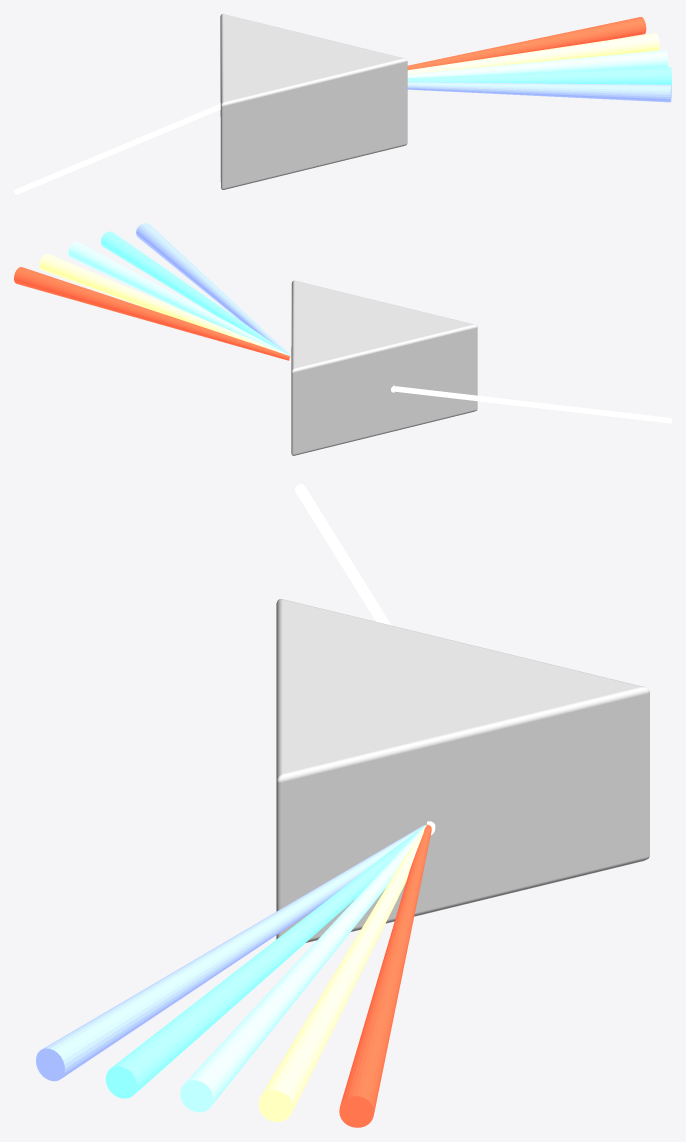
Rendered from prism.glb.
The picture shows the model from 3 angles, top to bottom: view 1: azimuth 30°, elevation 25°; view 2: azimuth 150°, elevation 25°; view 3: azimuth 270°, elevation 25°; orthographic projection. The views are drawn at different scales.
Parts seen in each view (by area): view 1: Prism, Ray4, Ray3, Ray2, Ray1, Ray0, BeamIn; view 2: Prism, Ray0, Ray1, Ray2, Ray3, Ray4, BeamIn; view 3: Prism, Ray4, Ray3, Ray2, Ray1, Ray0, BeamIn.
Part boxes in pixels (x1,y1,x2,y2): Prism: [220, 14, 407, 189]; Ray4: [407, 82, 671, 102]; Ray3: [407, 67, 671, 84]; Ray2: [407, 50, 668, 78]; Ray1: [407, 33, 659, 74]; Ray0: [407, 17, 646, 69]; BeamIn: [14, 104, 220, 194]; Prism: [291, 280, 477, 455]; Ray0: [14, 267, 290, 360]; Ray1: [39, 253, 288, 355]; Ray2: [68, 241, 289, 355]; Ray3: [101, 231, 289, 355]; Ray4: [136, 223, 291, 355]; BeamIn: [394, 386, 671, 423]; Prism: [276, 599, 649, 942]; Ray4: [36, 824, 426, 1081]; Ray3: [105, 825, 425, 1098]; Ray2: [180, 825, 426, 1112]; Ray1: [258, 825, 426, 1121]; Ray0: [339, 824, 431, 1127]; BeamIn: [295, 484, 391, 625].
Size of the model in its own units: 9.21 by 1.2 by 3.83.
